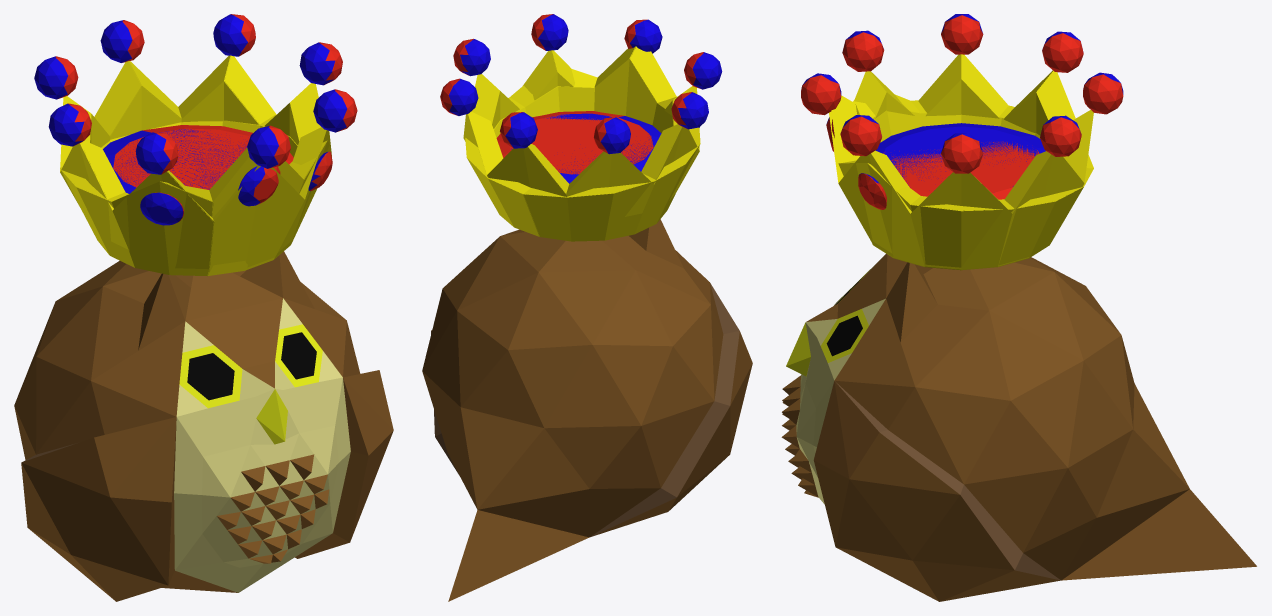
File: Owl.glb
3 renders of one model, left to right at view 1: azimuth 30°, elevation 25°; view 2: azimuth 150°, elevation 25°; view 3: azimuth 270°, elevation 25°, orthographic. The views are drawn at different scales.
Visible parts, largest first — view 1: Owl, Blue_Crown, Red_Crown, Blue_Tiara, Red_Tiara; view 2: Owl, Blue_Crown, Blue_Tiara, Red_Crown, Red_Tiara; view 3: Owl, Red_Crown, Red_Tiara, Blue_Crown, Blue_Tiara.
Part boxes in pixels (<box>): Owl: <box>14,251,393,601</box>; Blue_Crown: <box>34,14,347,272</box>; Red_Crown: <box>55,14,357,272</box>; Blue_Tiara: <box>60,115,327,276</box>; Red_Tiara: <box>60,115,332,274</box>; Owl: <box>422,219,752,601</box>; Blue_Crown: <box>448,14,722,216</box>; Blue_Tiara: <box>466,46,700,241</box>; Red_Crown: <box>440,14,703,196</box>; Red_Tiara: <box>465,46,699,236</box>; Owl: <box>781,253,1256,601</box>; Red_Crown: <box>801,15,1123,269</box>; Red_Tiara: <box>826,95,1093,270</box>; Blue_Crown: <box>802,14,1123,213</box>; Blue_Tiara: <box>826,94,1093,210</box>.
Size of the model in its own units: 10.04 by 14.03 by 12.26.
